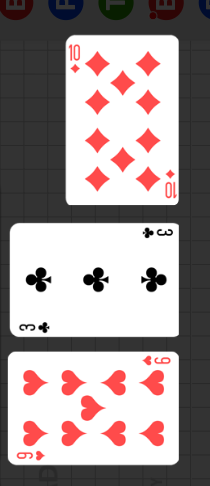10D: (164, 167, 178, 200), (68, 43, 82, 75)
9H: (15, 449, 47, 462)
